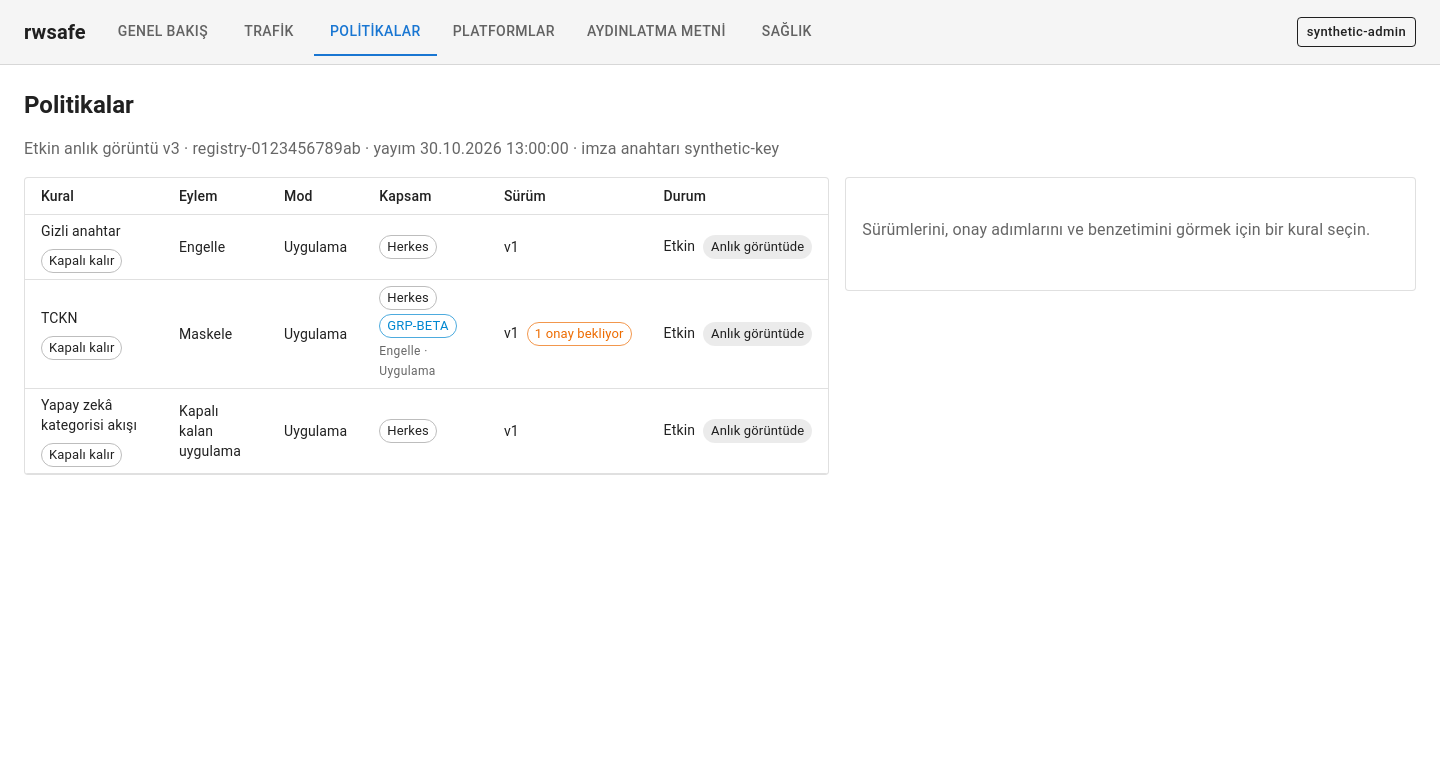
withdrawing a group scope › withdraws at once with a reason and an in-page confirmation, without approval steps
This screenshot has width=1440, height=759.
Click the text "TCKN".
click(82, 335)  # box top-left (41, 310), bottom-right (122, 360)
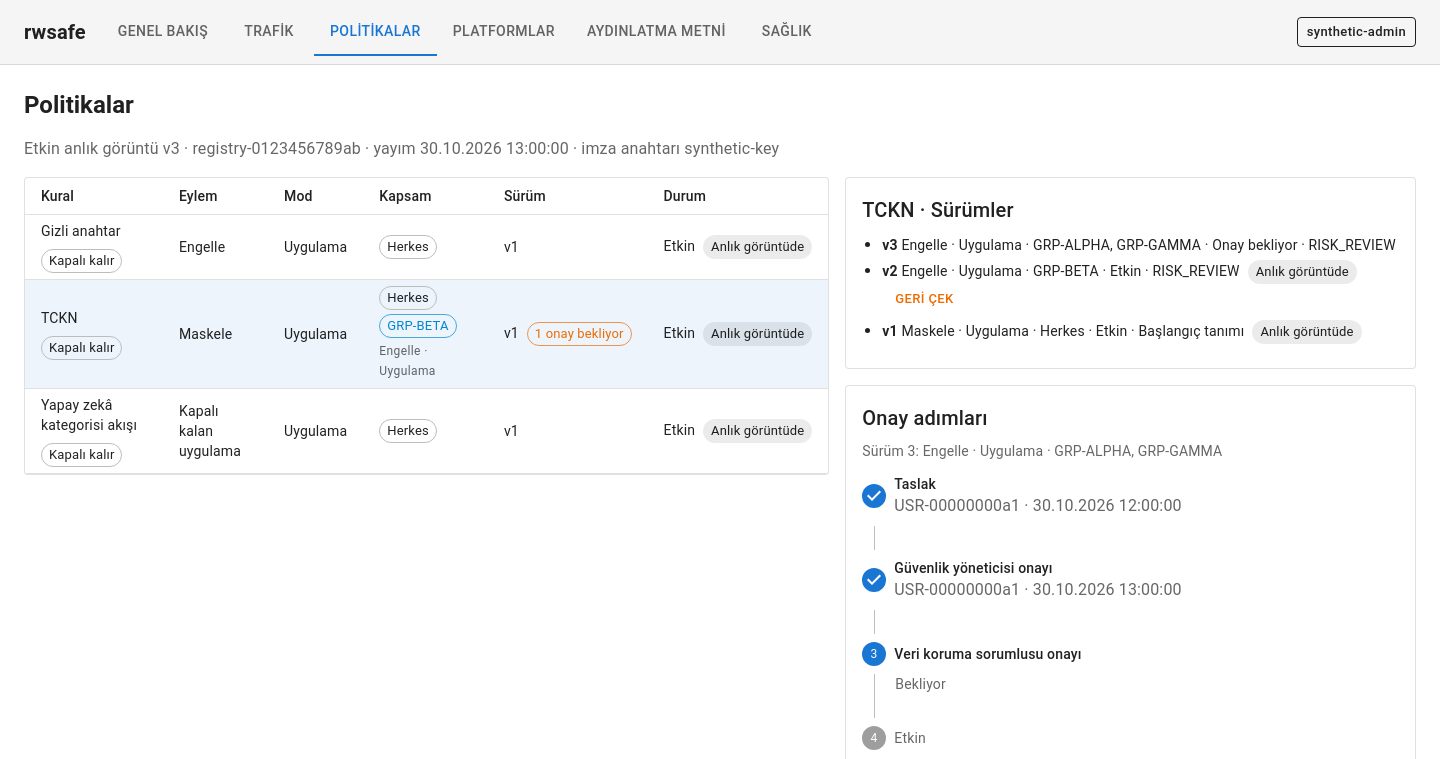
expect the number of buttons "Geri çek" is 1: met
Click the button "Geri çek".
click(924, 300)  # box top-left (890, 284), bottom-right (958, 315)
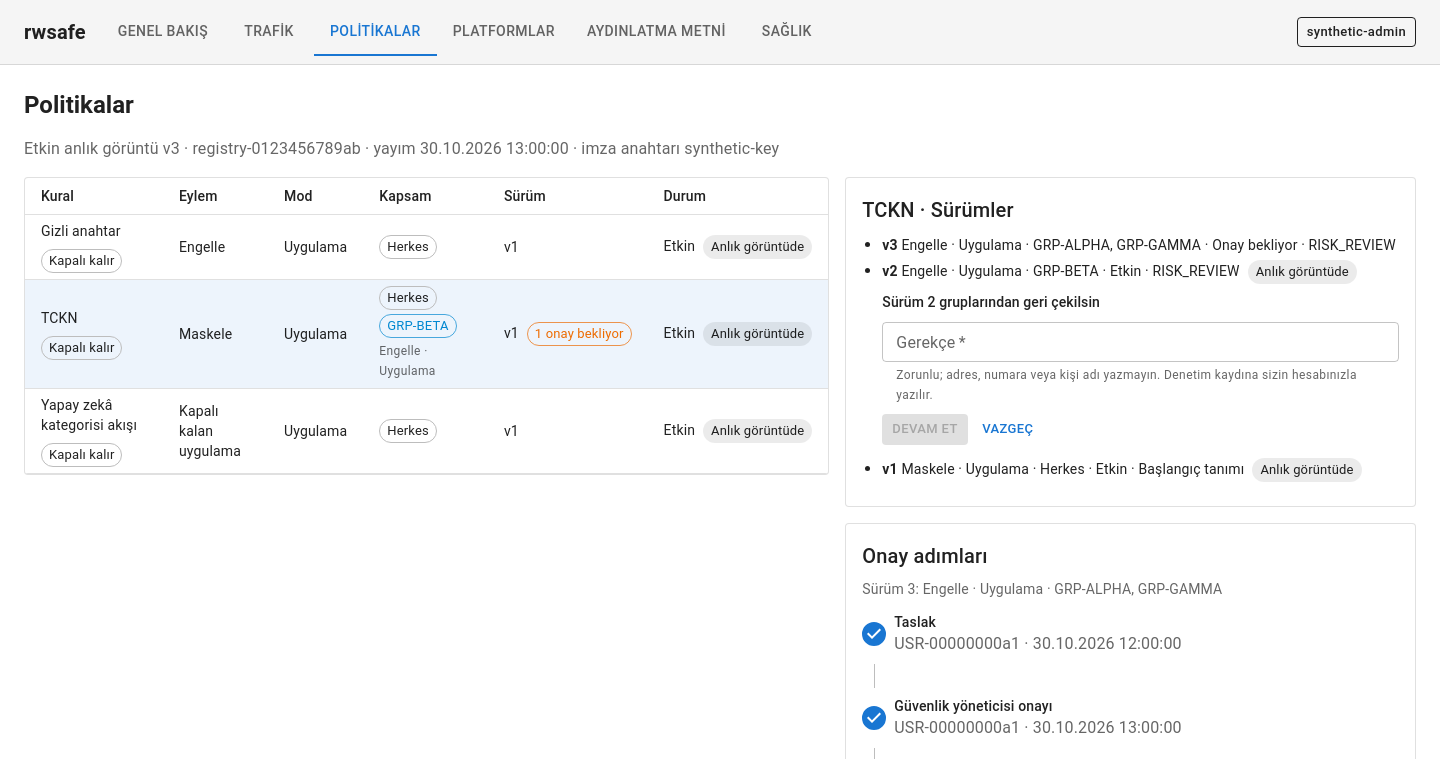
expect the button "Devam et" is disabled: met, box top-left (882, 414), bottom-right (968, 445)
Type "Pilot finished" into the field labelled "Gerekçe *".
click(1141, 342); type("Pilot finished")  # box top-left (882, 322), bottom-right (1399, 362)
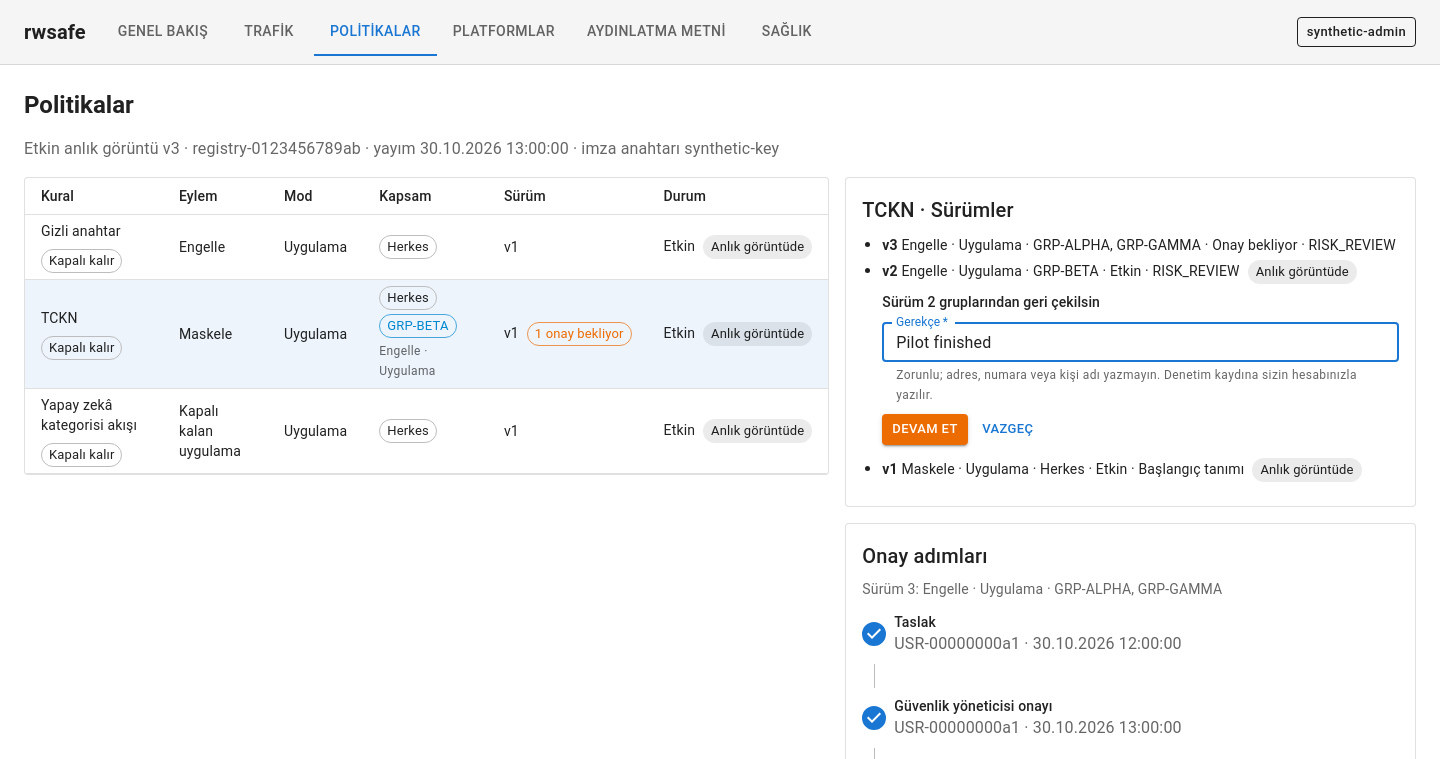
Click the button "Devam et".
click(925, 430)  # box top-left (882, 414), bottom-right (968, 445)
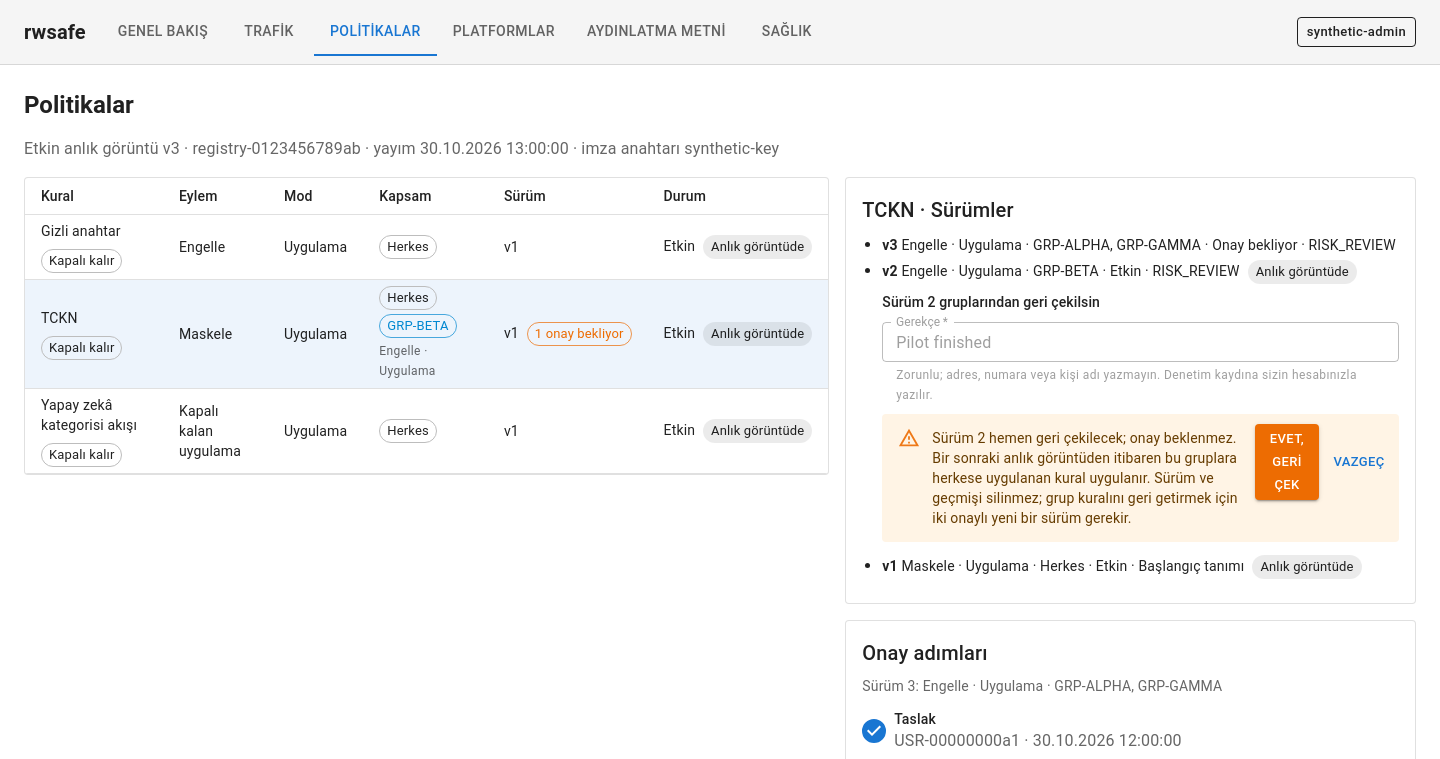
expect the text "Sürüm 2 hemen geri çekilecek; onay beklenmez" is shown: met, box top-left (932, 430), bottom-right (1238, 526)
Click the button "Evet, geri çek".
click(1287, 462)  # box top-left (1255, 424), bottom-right (1319, 500)
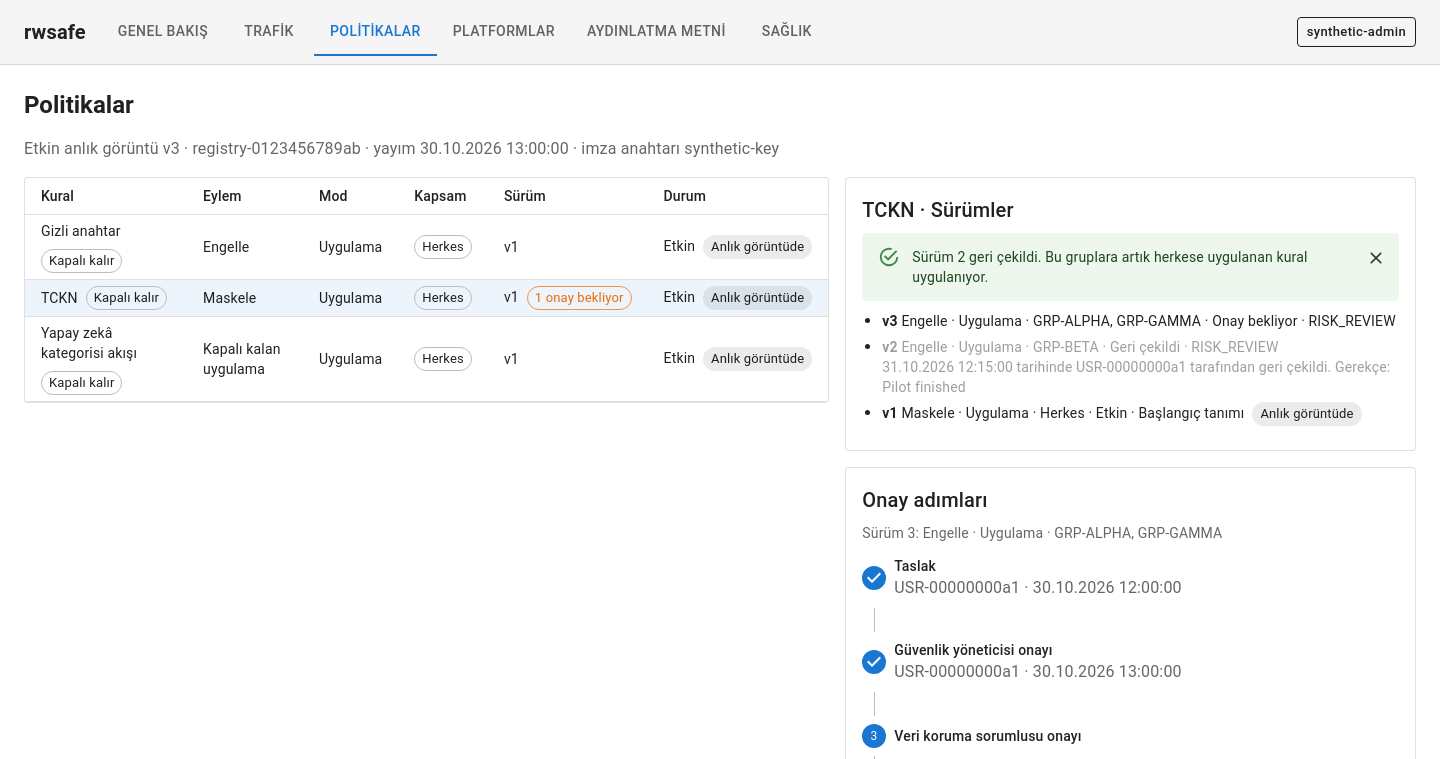
expect the text "Sürüm 2 geri çekildi. Bu gruplara artık herkese uygulanan kural uygulanıyor." is shown: met, box top-left (912, 239), bottom-right (1345, 295)
expect the text "31.10.2026 12:15:00 tarihinde USR-00000000a1 tarafından geri çekildi. Gerekçe: Pilot finished" is shown: met, box top-left (882, 359), bottom-right (1390, 395)
expect the text "GRP-BETA · Geri çekildi" is shown: met, box top-left (901, 339), bottom-right (1278, 355)
